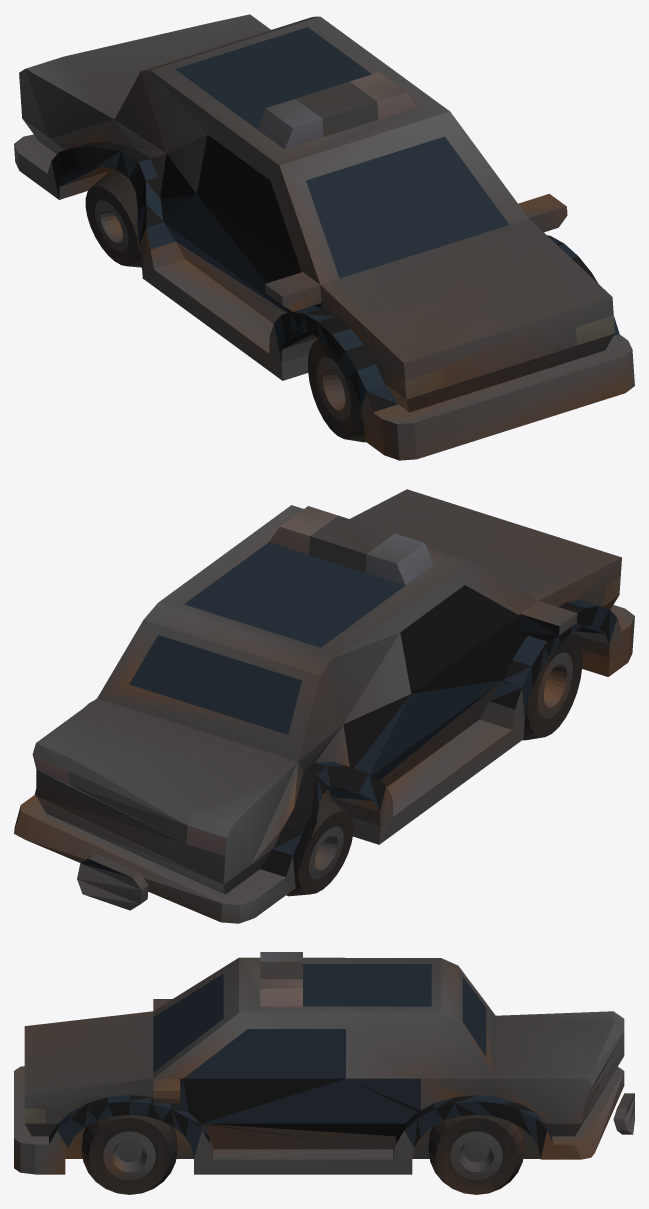
File: police_wreck.glb
3 views of the same model, one above another, from view 1: azimuth 30°, elevation 25°; view 2: azimuth 150°, elevation 25°; view 3: azimuth 270°, elevation 25° (orthographic). The views are drawn at different scales.
Parts seen in each view (by area): view 1: police_wreck; view 2: police_wreck; view 3: police_wreck.
Boxes of the visible parts, box(x1,y1,x2,y2) form: police_wreck: box(14, 14, 634, 460); police_wreck: box(14, 489, 634, 923); police_wreck: box(14, 952, 634, 1194).
Bounding box in the file's own units: 1.8 × 1.52 × 4.35.
